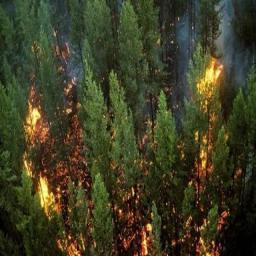Low smoke: (50, 14, 96, 91), (216, 2, 256, 63)
Medium fire: (15, 96, 86, 216), (63, 221, 219, 255), (194, 50, 225, 173)
